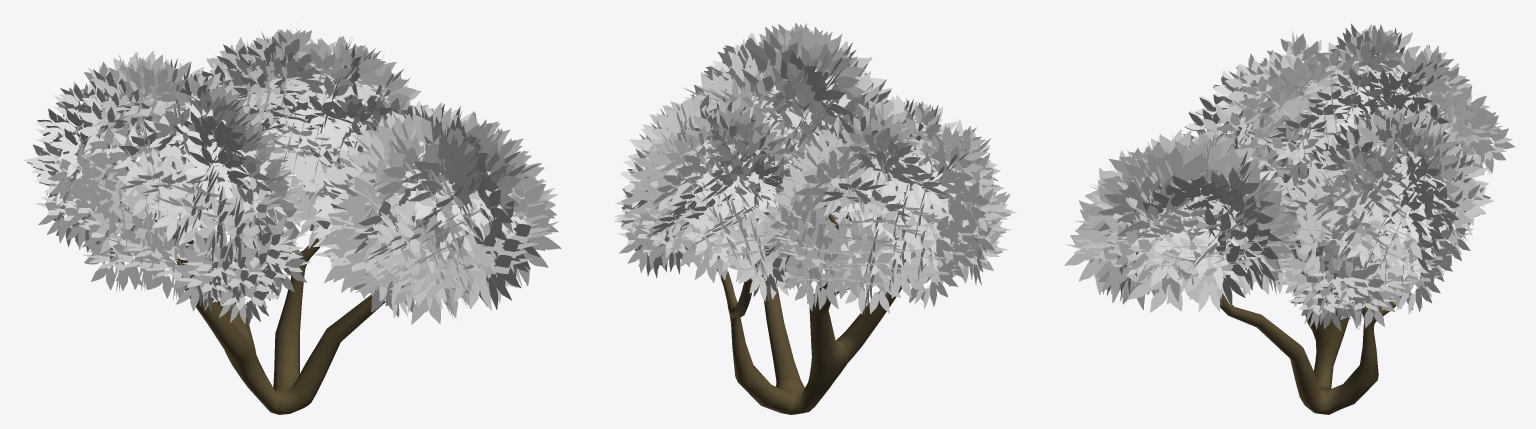
File: Pitangueira.fbx
3 renders of one model, left to right at view 1: azimuth 30°, elevation 25°; view 2: azimuth 150°, elevation 25°; view 3: azimuth 270°, elevation 25°, orthographic. The views are drawn at different scales.
Visible parts, largest first — view 1: Folha_Pitangueira.001, Pitangueira_Crescida; view 2: Folha_Pitangueira.001, Pitangueira_Crescida; view 3: Folha_Pitangueira.001, Pitangueira_Crescida.
Boxes of the visible parts, x1,y1,x2,y2 form: Folha_Pitangueira.001: [24, 24, 561, 324]; Pitangueira_Crescida: [116, 145, 385, 414]; Folha_Pitangueira.001: [614, 23, 1016, 314]; Pitangueira_Crescida: [714, 214, 905, 414]; Folha_Pitangueira.001: [1064, 24, 1514, 331]; Pitangueira_Crescida: [1220, 156, 1396, 414].
Bounding box in the file's own units: 209 × 172 × 217.
